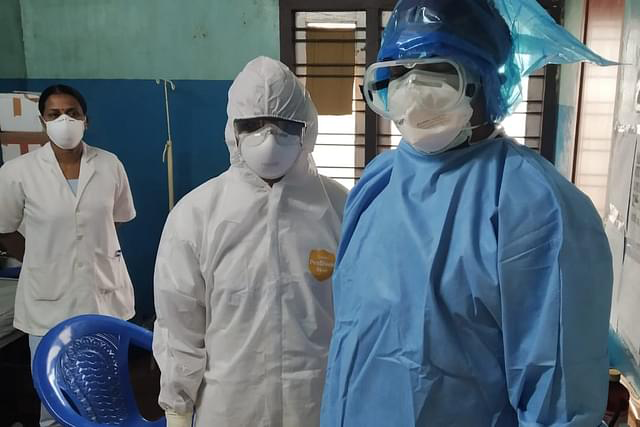Coverall: (338, 1, 611, 427), (149, 56, 349, 427)
Goggles: (363, 56, 470, 116), (220, 110, 308, 145)
with_mask: (380, 77, 474, 153), (236, 125, 305, 180), (43, 108, 87, 150)
